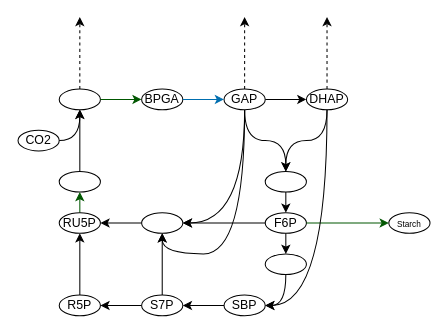
The diagram is 448 pixels wide and 334 high, and some of its shapes have lost their labels. The shapes that lost their labels are listed below. From the top down, each one's centre as x and y in pixels, then its label:
(79,99): PGA
(79,181): RUBP
(285,181): FBP
(162,222): X5P
(285,263): E4P
